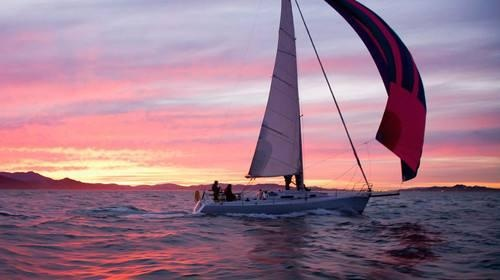fanchuan: (192, 1, 430, 218)
